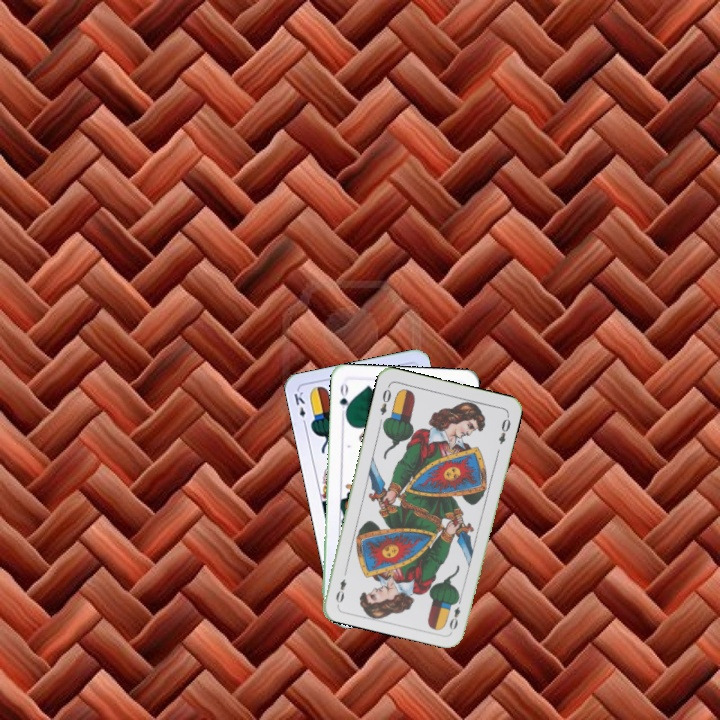EK: (290, 388, 309, 428)
EO: (445, 593, 464, 632), (376, 382, 394, 418)
GO: (335, 379, 353, 420)
